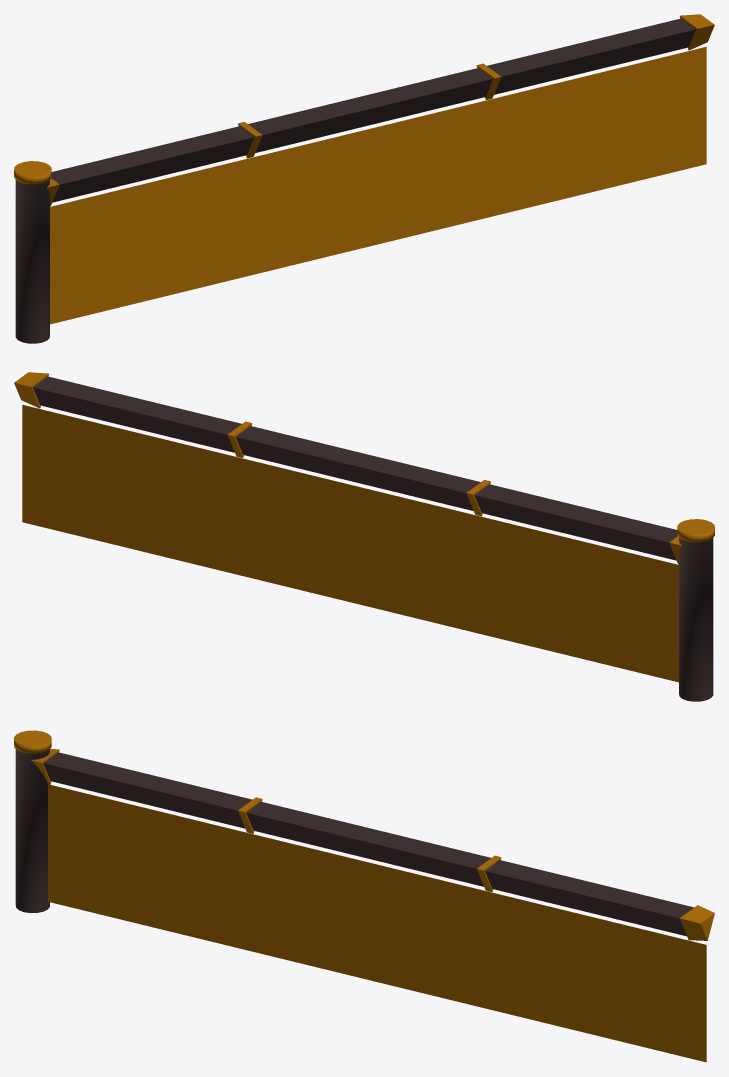
The model's file is Railing.fbx.
3 views of the same model, one above another, from view 1: azimuth 30°, elevation 25°; view 2: azimuth 150°, elevation 25°; view 3: azimuth 330°, elevation 25° (orthographic).
Parts seen in each view (by area): view 1: Railing; view 2: Railing; view 3: Railing.
Boxes of the visible parts, x1,y1,x2,y2 form: Railing: (14, 14, 714, 343); Railing: (14, 372, 714, 701); Railing: (14, 730, 714, 1062).
Size of the model in its own units: 462 by 107 by 22.
